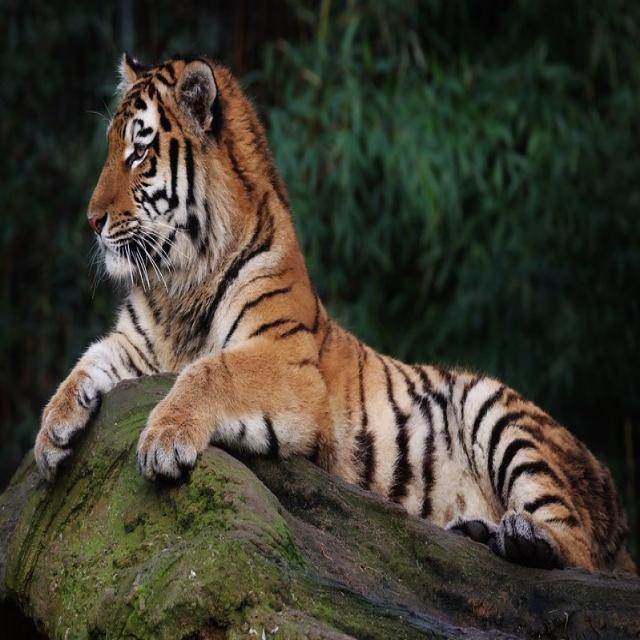Tiger: (36, 48, 634, 575)
